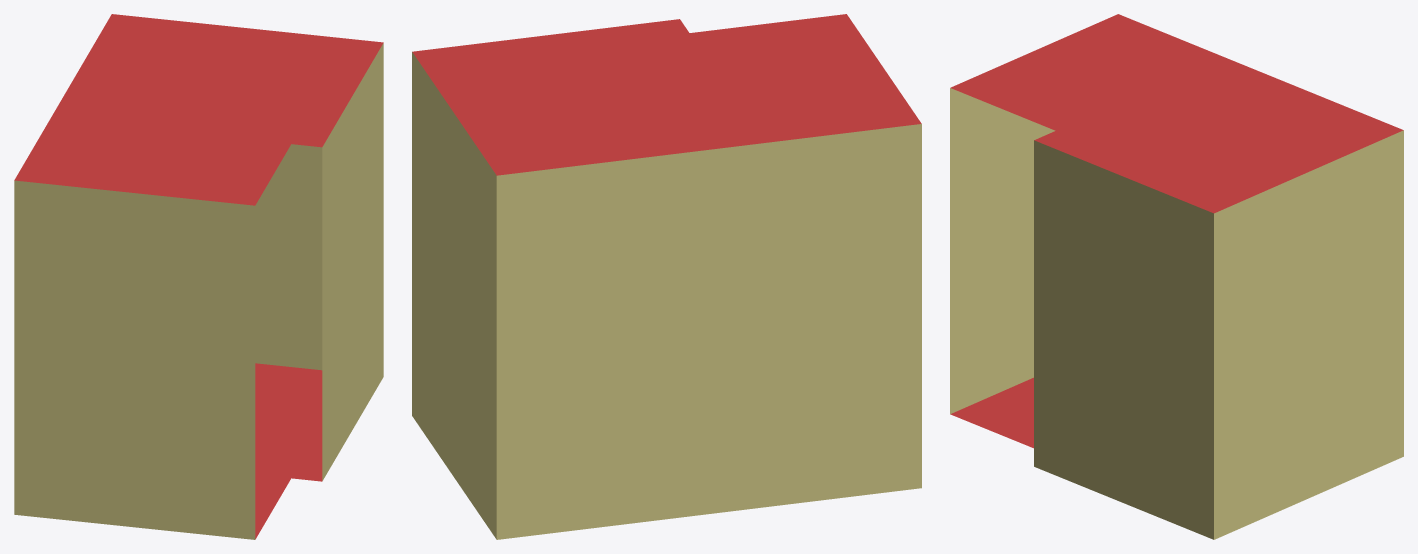
The picture shows the model from 3 angles, left to right: view 1: azimuth 30°, elevation 25°; view 2: azimuth 150°, elevation 25°; view 3: azimuth 270°, elevation 25°; orthographic projection. The views are drawn at different scales.
Size of the model in its own units: 7.71 by 7.41 by 5.89.
